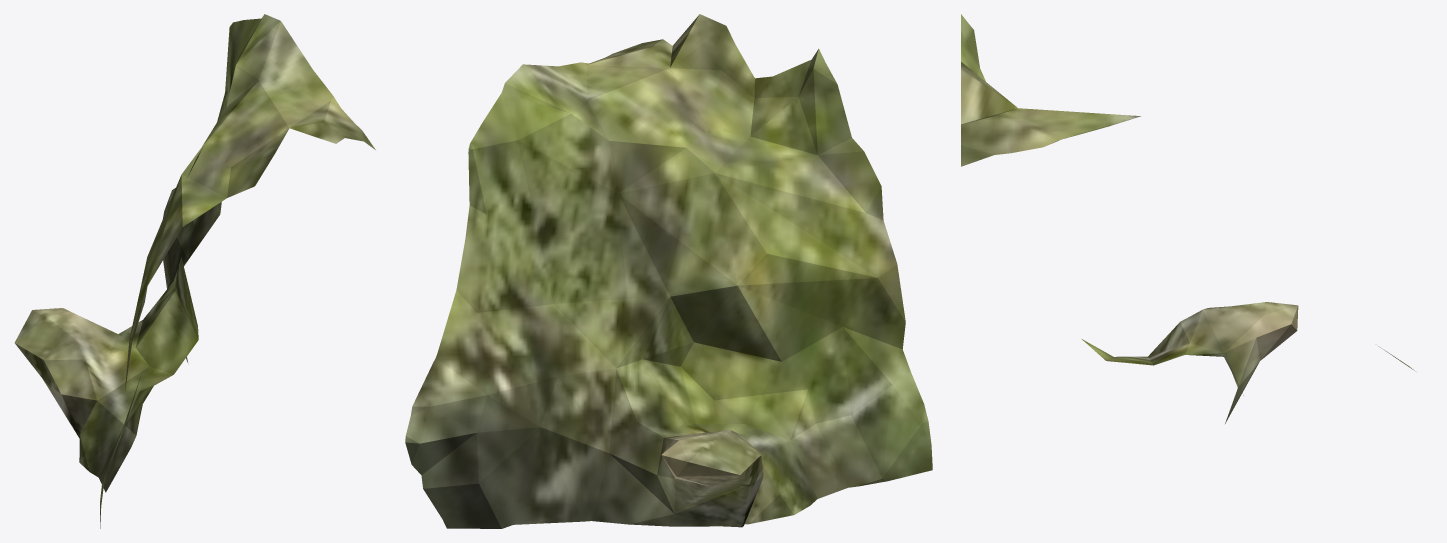
3 renders of one model, left to right at view 1: azimuth 30°, elevation 25°; view 2: azimuth 150°, elevation 25°; view 3: azimuth 270°, elevation 25°, orthographic. The views are drawn at different scales.
Bounding box in the file's own units: 0.8056 × 1.03 × 1.02.
1 material, 1 textured.
